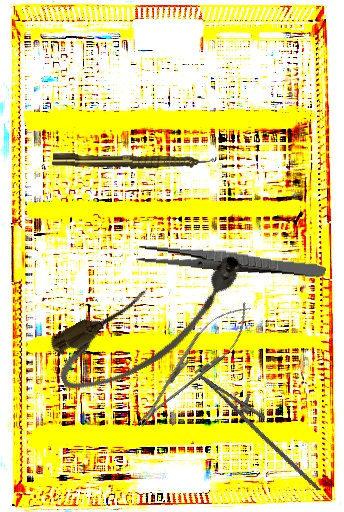Cannula: (41, 242, 263, 405)
Dressing Forceps: (135, 242, 327, 280)
Handpiece: (52, 152, 213, 170)
Needle Holder: (124, 292, 262, 438), (187, 364, 340, 492)
